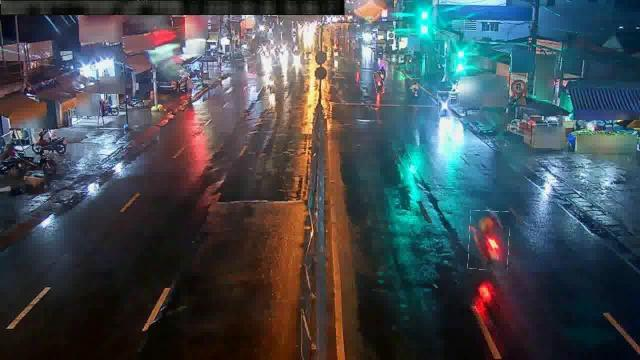Bike: (468, 210, 509, 270), (438, 92, 452, 118), (32, 131, 52, 148), (266, 72, 278, 96), (411, 78, 422, 100), (374, 71, 384, 93)
